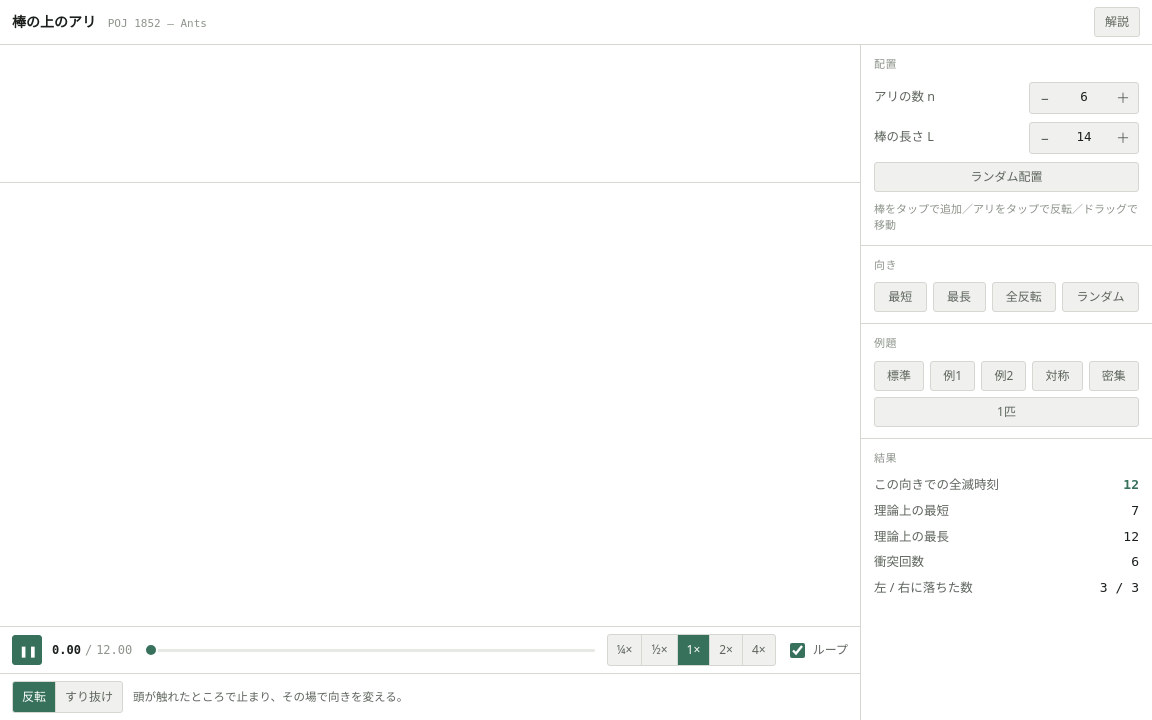
Test: App › 解説を開閉できる
The image size is (1152, 720).
Click the button "解説". click: (1117, 22)
box: [1094,7,1140,37]
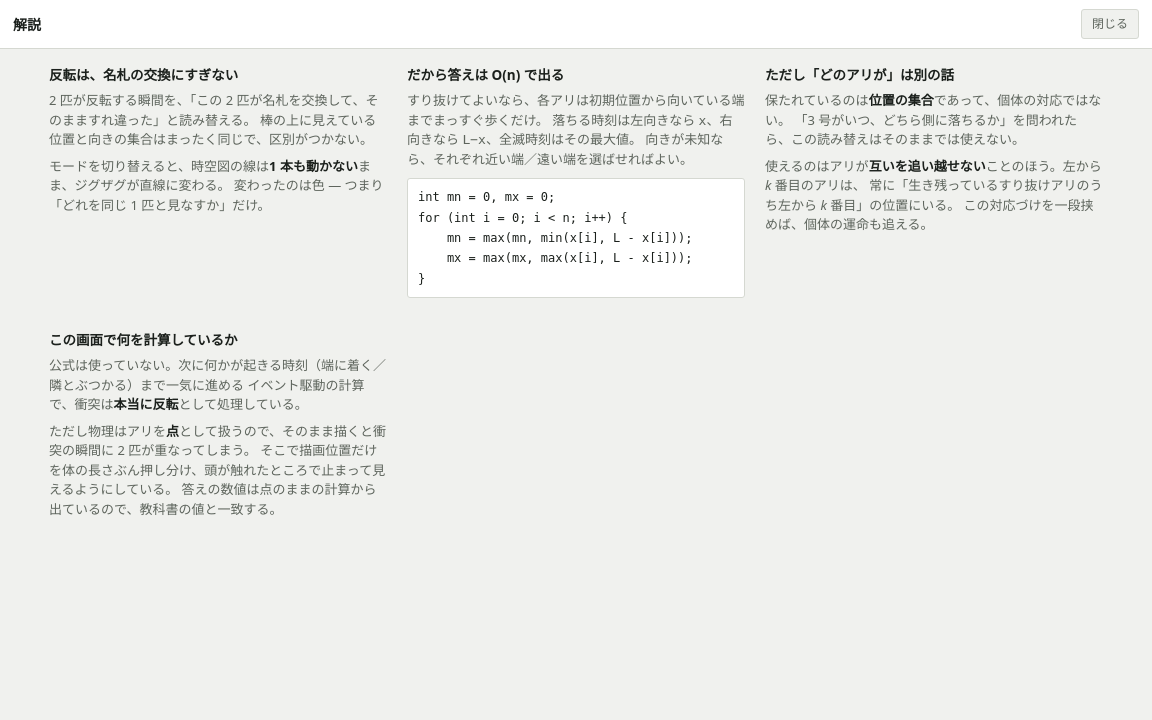
Expected: the dialog is shown
Click the button "閉じる". click: (1110, 24)
box: [1081,9,1139,39]
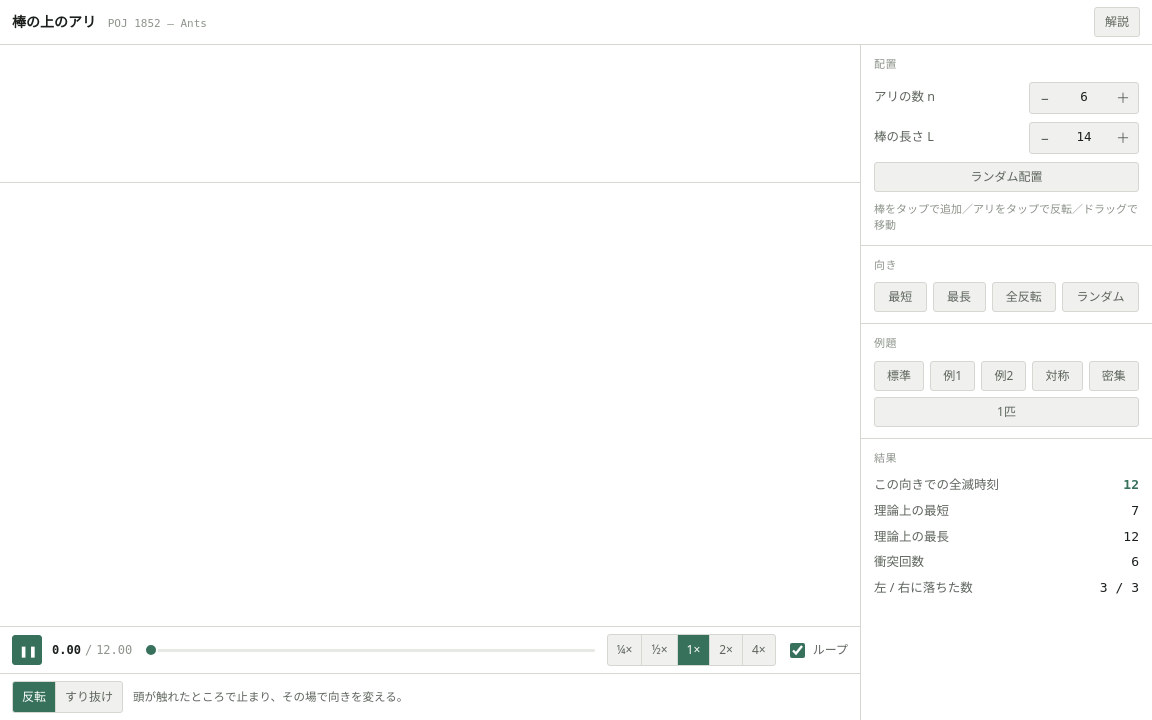
Expected: the dialog is gone
